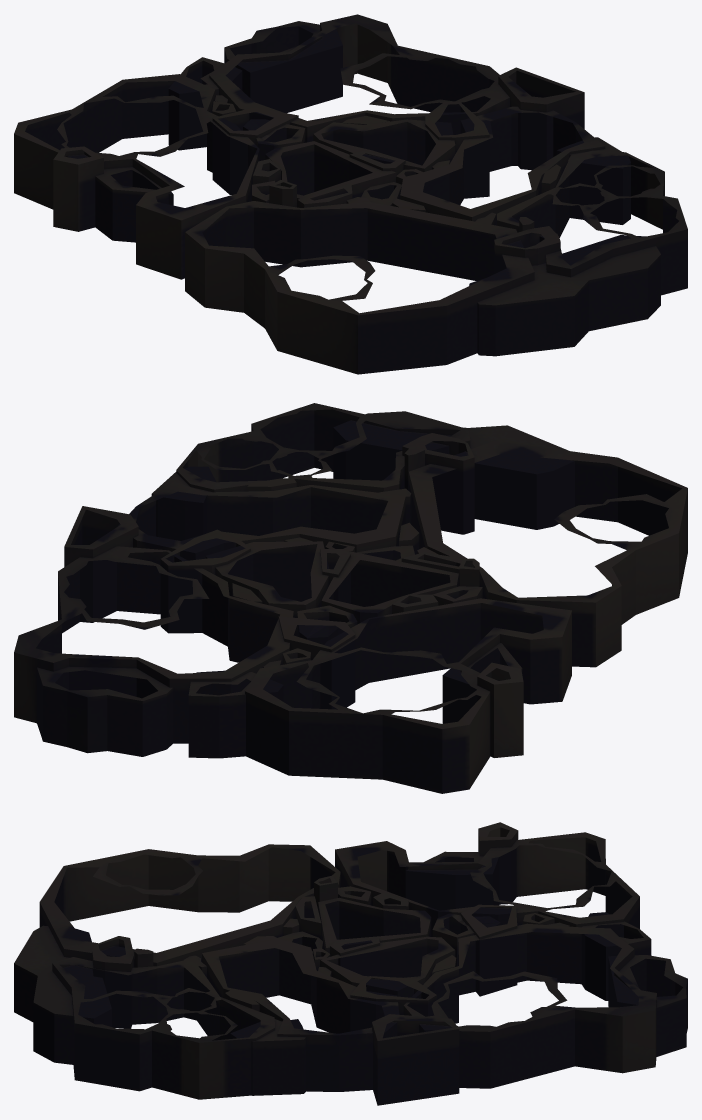
Rendered from Ground_01.FBX.
3 views of the same model, one above another, from view 1: azimuth 30°, elevation 25°; view 2: azimuth 150°, elevation 25°; view 3: azimuth 270°, elevation 25° (orthographic). The views are drawn at different scales.
Parts seen in each view (by area): view 1: Ground_01; view 2: Ground_01; view 3: Ground_01.
Part boxes in pixels (box(x1,y1,x2,y2)): Ground_01: box(14, 14, 687, 374); Ground_01: box(14, 403, 687, 793); Ground_01: box(14, 822, 687, 1105).
Bounding box in the file's own units: 18.23 × 2.76 × 23.72.
